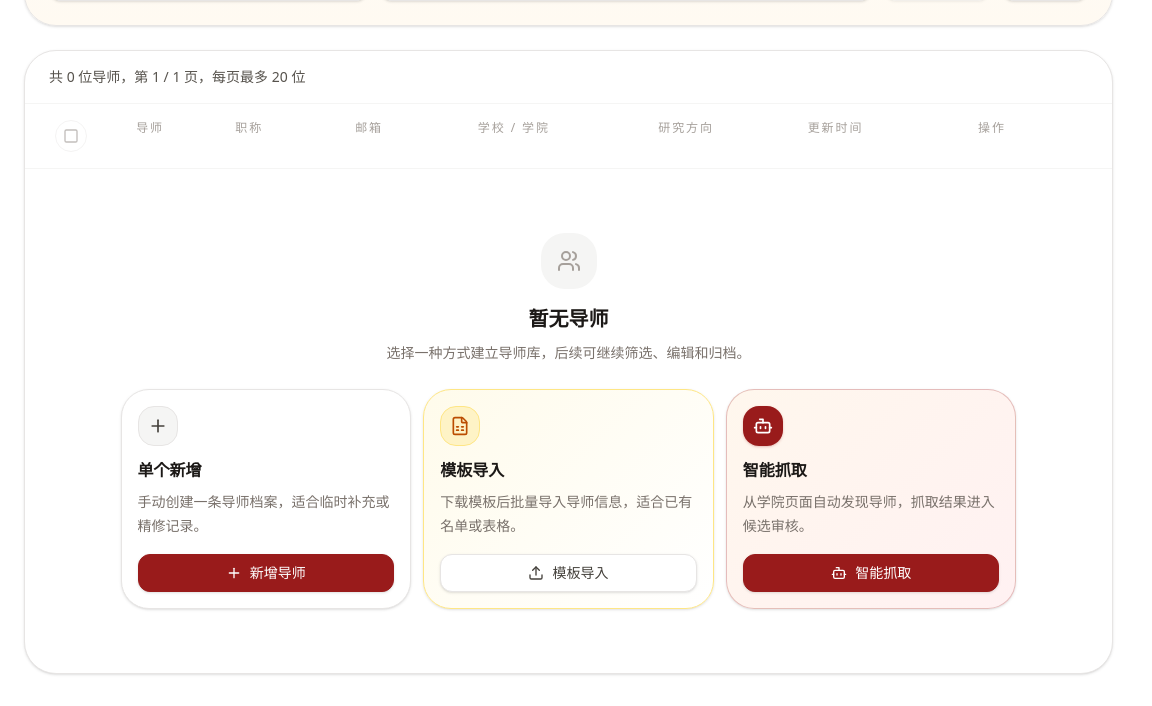
ProfessorsPage crawler job entry › removes an added crawler url row
(page scrolled)
Click the button "智能抓取": (871, 573) [743,554,1000,592]
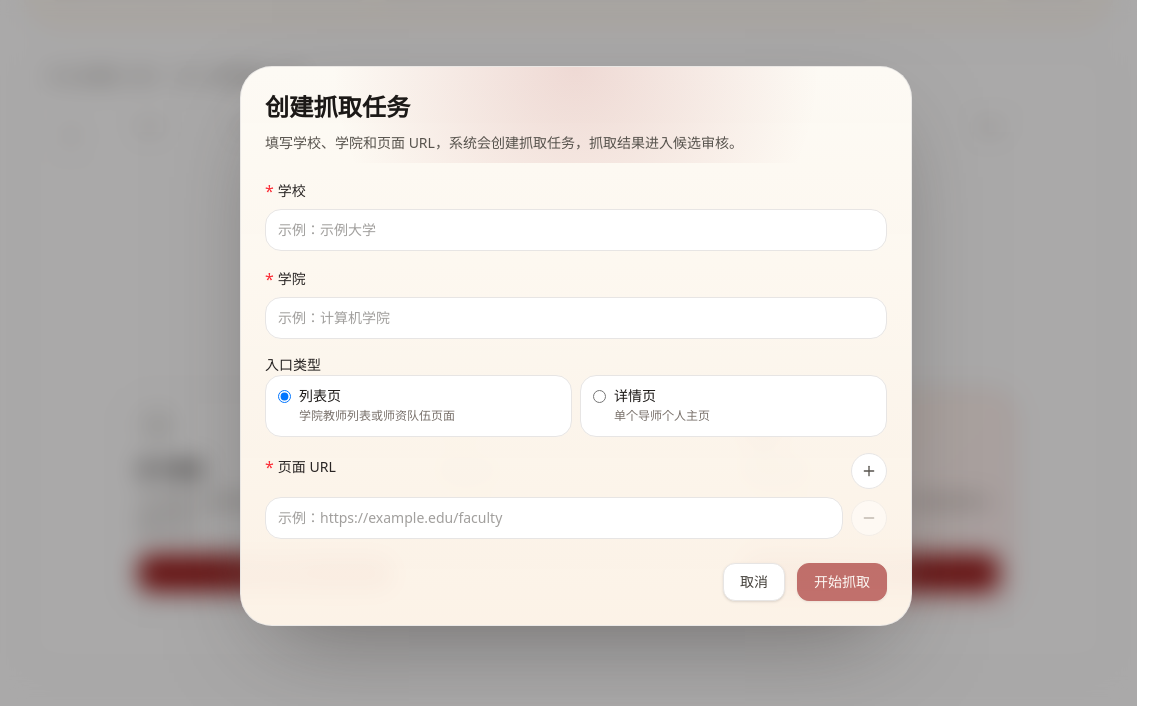
Click the button named "添加页面 URL": (869, 471) [851,453,887,489]
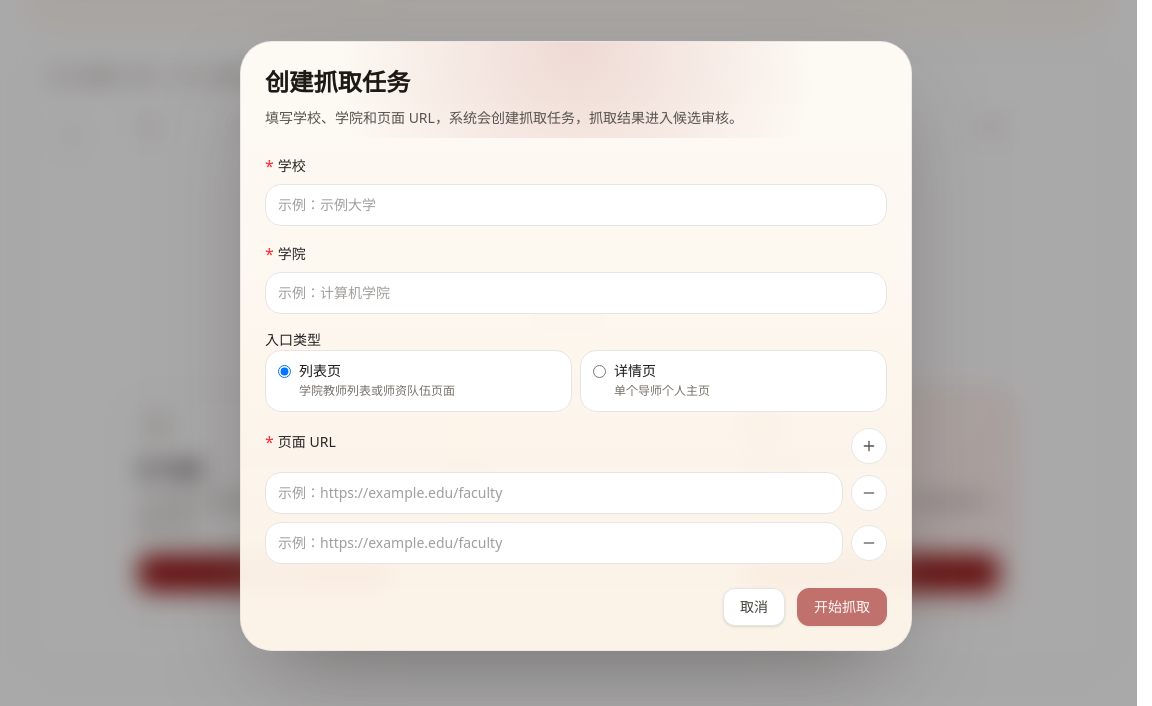
Check: the number of fields named "页面 URL" is 2, box [265,472,843,514]; [265,522,843,564]
Click the 2nd button named "移除页面 URL": (869, 543) [851,525,887,561]
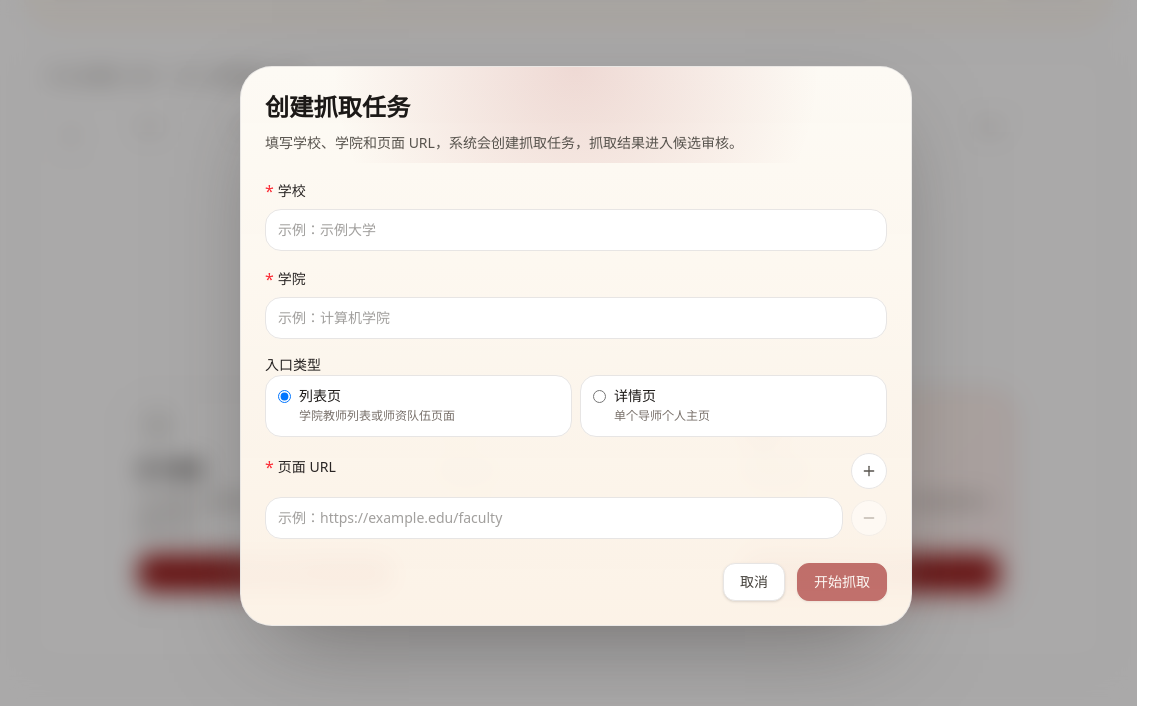
Check: the number of fields named "页面 URL" is 1, box [265,497,843,539]
